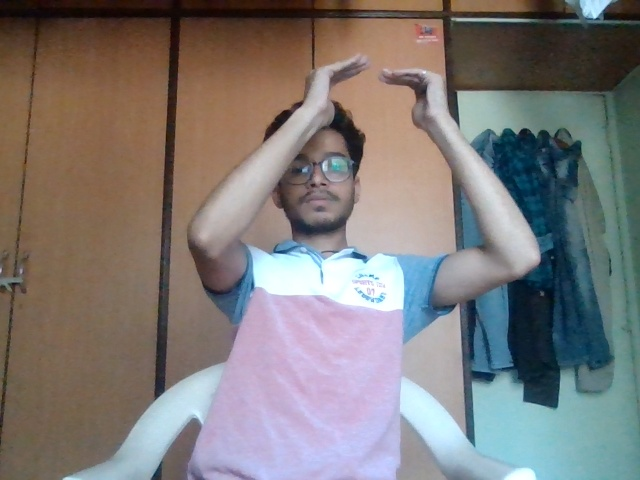afternoon: (280, 49, 495, 186)
